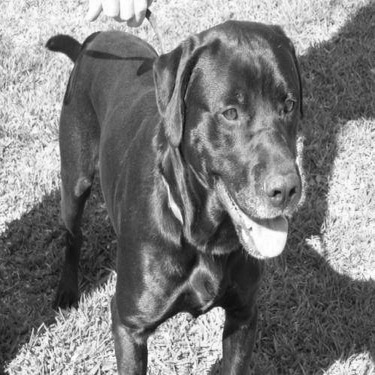dog: (23, 18, 310, 373)
